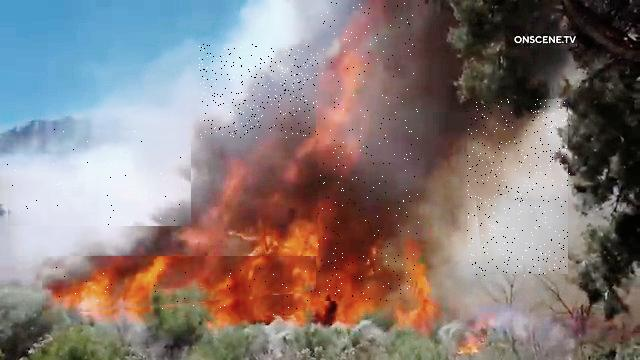fire: (318, 2, 419, 301), (43, 257, 321, 319)
smoke: (3, 121, 191, 226), (468, 100, 571, 277), (200, 44, 319, 138)
